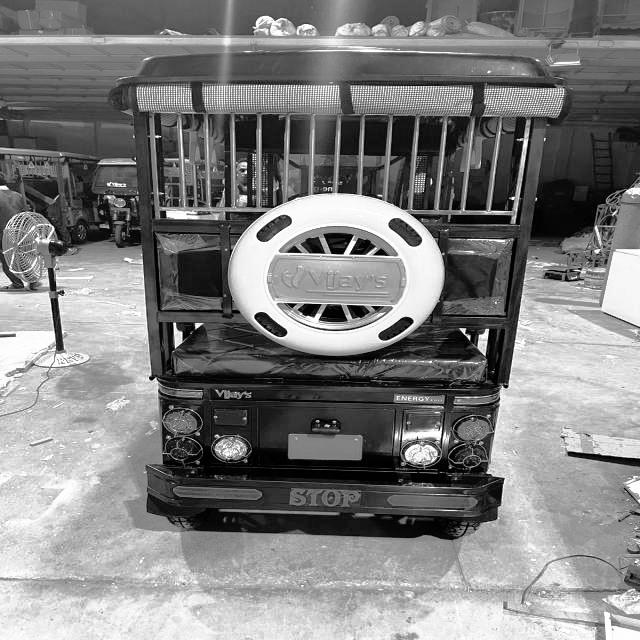Toto: (121, 48, 563, 542)
